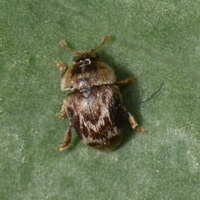insect: (55, 35, 147, 150)
